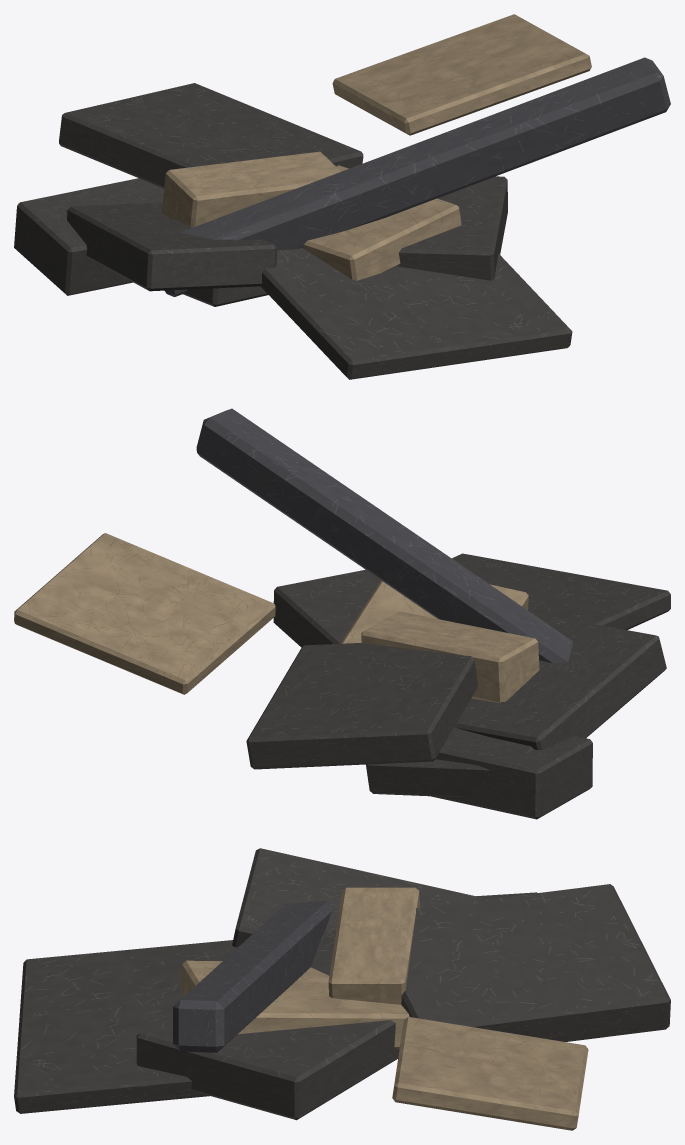
The model's file is prop_scrap_b.obj.
3 views of the same model, one above another, from view 1: azimuth 30°, elevation 25°; view 2: azimuth 150°, elevation 25°; view 3: azimuth 270°, elevation 25° (orthographic). The views are drawn at different scales.
Parts seen in each view (by area): view 1: prop_scrap_b; view 2: prop_scrap_b; view 3: prop_scrap_b.
Part boxes in pixels (bbox=[...]): prop_scrap_b: bbox=[14, 14, 670, 379]; prop_scrap_b: bbox=[14, 408, 670, 819]; prop_scrap_b: bbox=[14, 848, 670, 1130].
Size of the model in its own units: 1.76 by 0.6331 by 1.75.
Materials: 1 (1 with a texture image).
